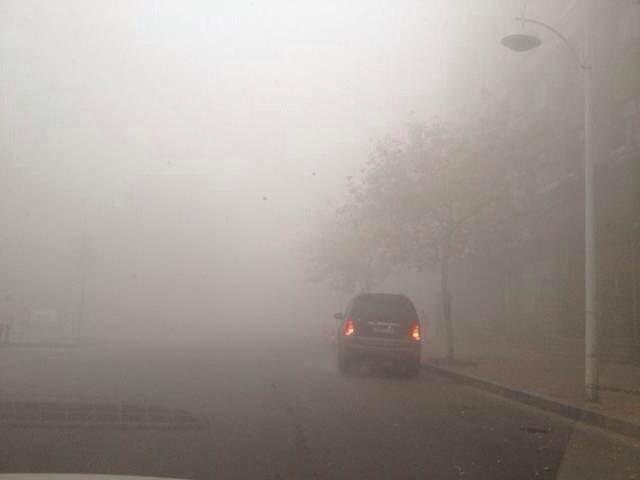car: (334, 292, 421, 379)
